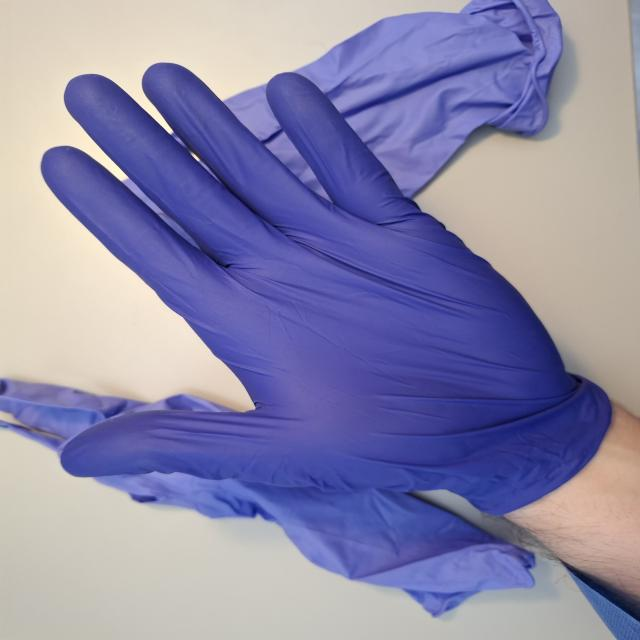glove_on: (36, 60, 621, 532)
